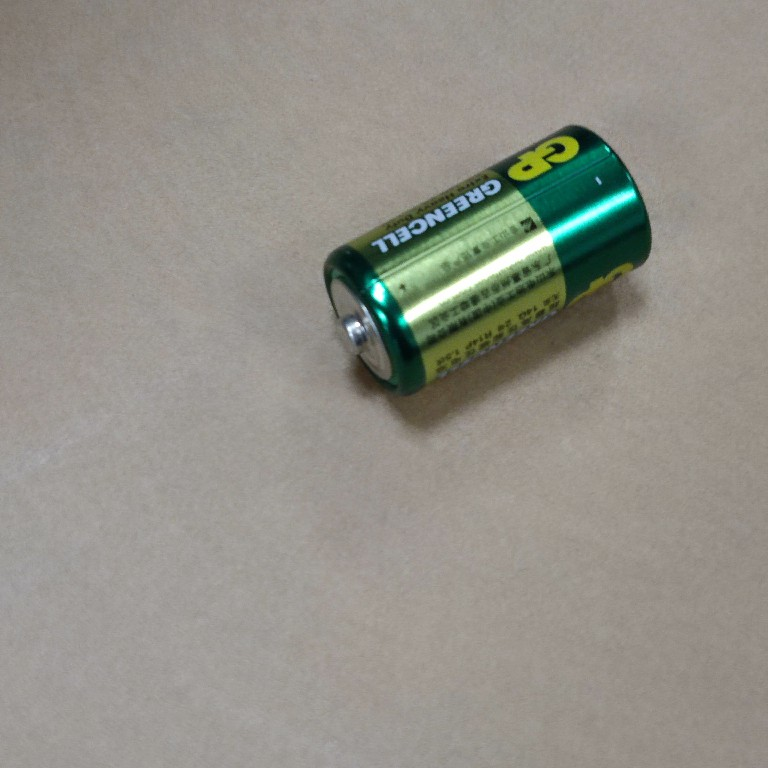charge: (317, 122, 659, 397)
